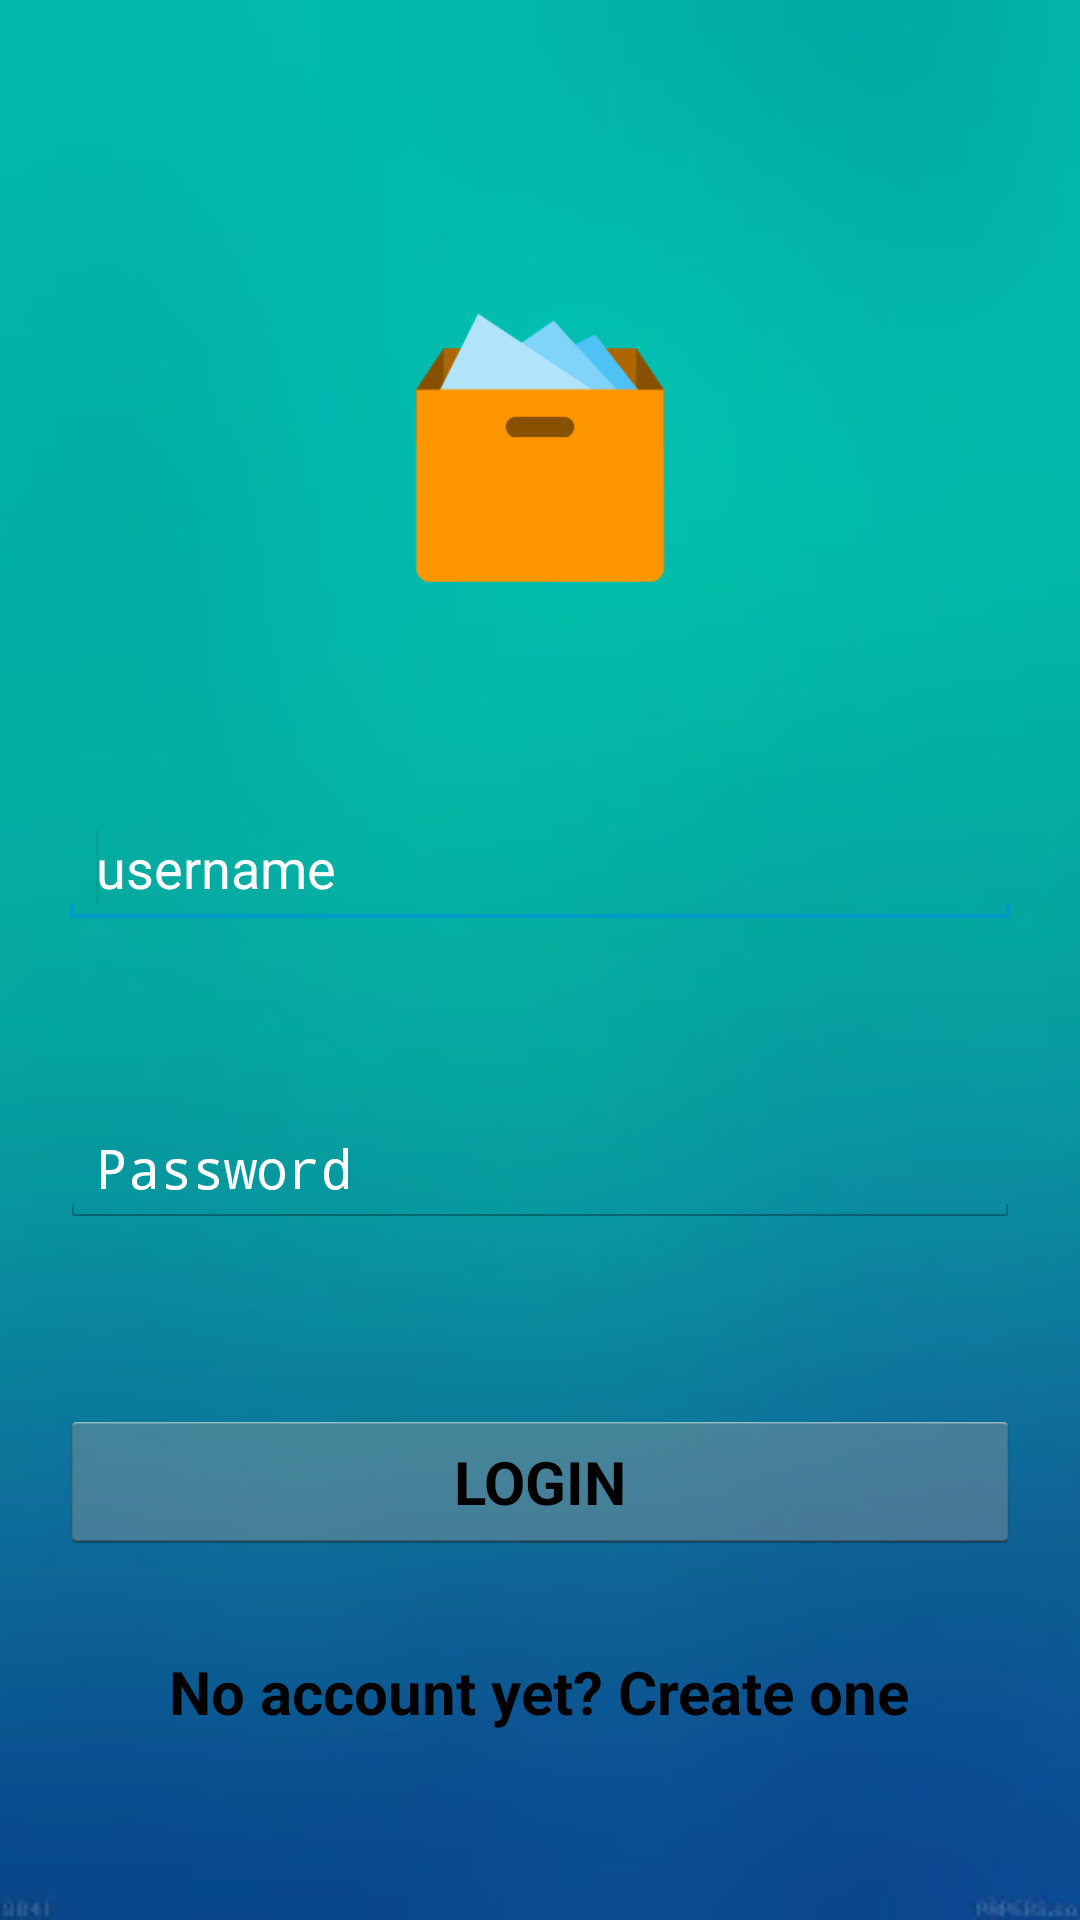

Icon bounding boxes for this 1080px×1920px phone screenshot, format (x1, y1, x2, y2):
open box: (415, 314, 665, 582)
